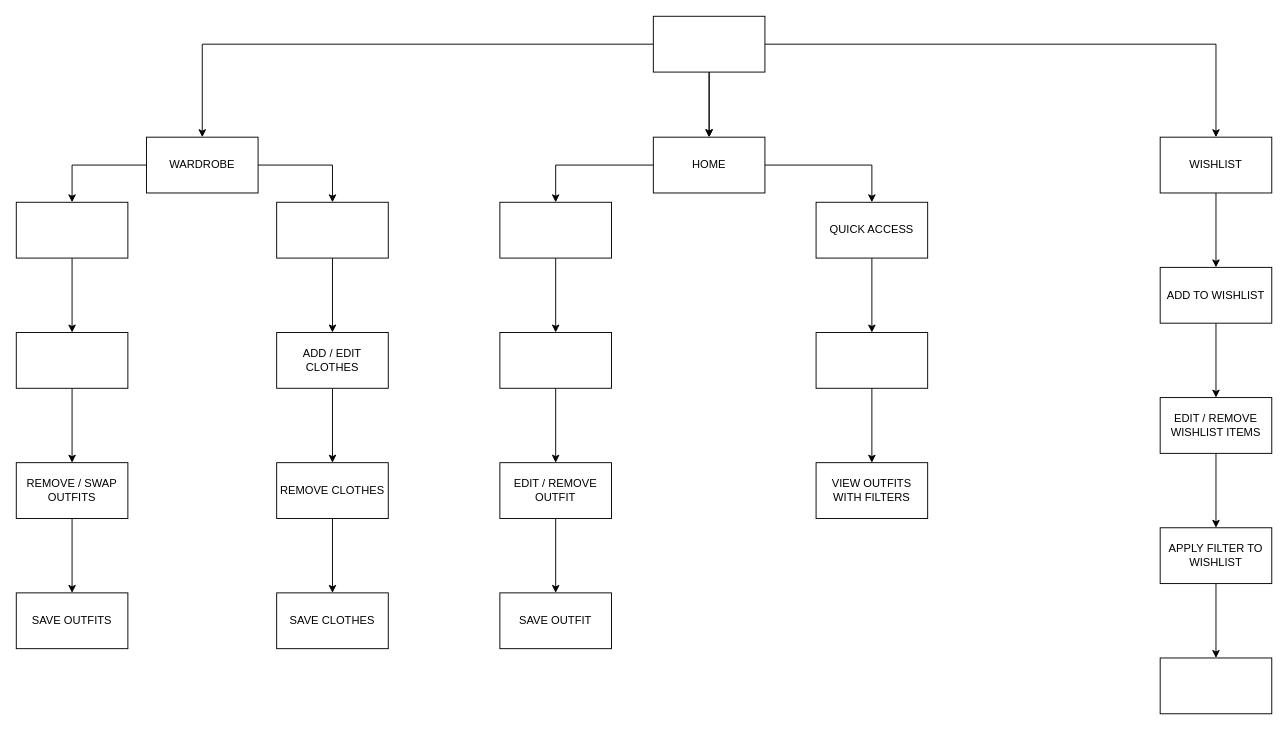
Image size: 1288x730. Some labels were removed from this diagram. Each missing label, with the centre of its shape:
ADD / EDIT OUTFITS: [71,360]
APPLY FILTERS BASED ON SETTINGS: [871,360]
CLOTHES: [332,229]
EXPAND OUTFIT: [555,360]
OUTFITS: [71,229]
RECENT OUTFITS: [555,229]
SAVE WISHLIST: [1215,685]
SETTINGS: [708,43]
